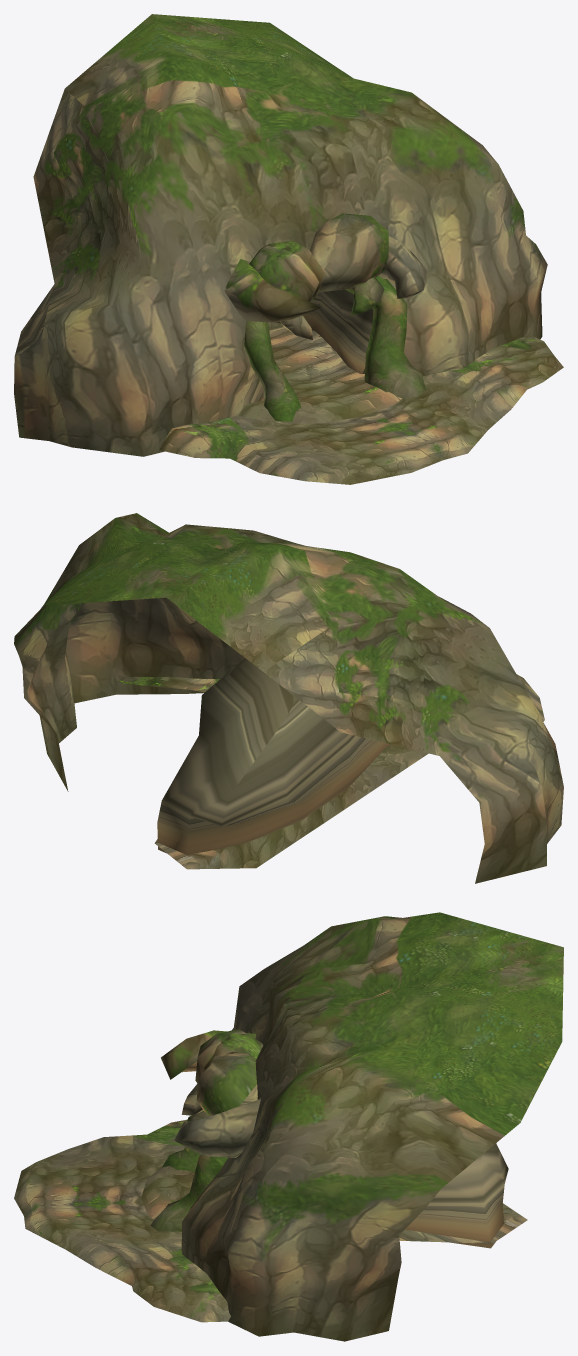
File: daliang_field_d_s03a.fbx
3 renders of one model, top to bottom at view 1: azimuth 30°, elevation 25°; view 2: azimuth 150°, elevation 25°; view 3: azimuth 270°, elevation 25°, orthographic. The views are drawn at different scales.
Parts seen in each view (by area): view 1: daliang_field_d_s03a; view 2: daliang_field_d_s03a; view 3: daliang_field_d_s03a.
Part boxes in pixels (x1=…): daliang_field_d_s03a: x1=14, y1=14, x2=563, y2=484; daliang_field_d_s03a: x1=14, y1=513, x2=563, y2=883; daliang_field_d_s03a: x1=14, y1=912, x2=563, y2=1341.
Size of the model in its own units: 2433 by 1425 by 2311.
